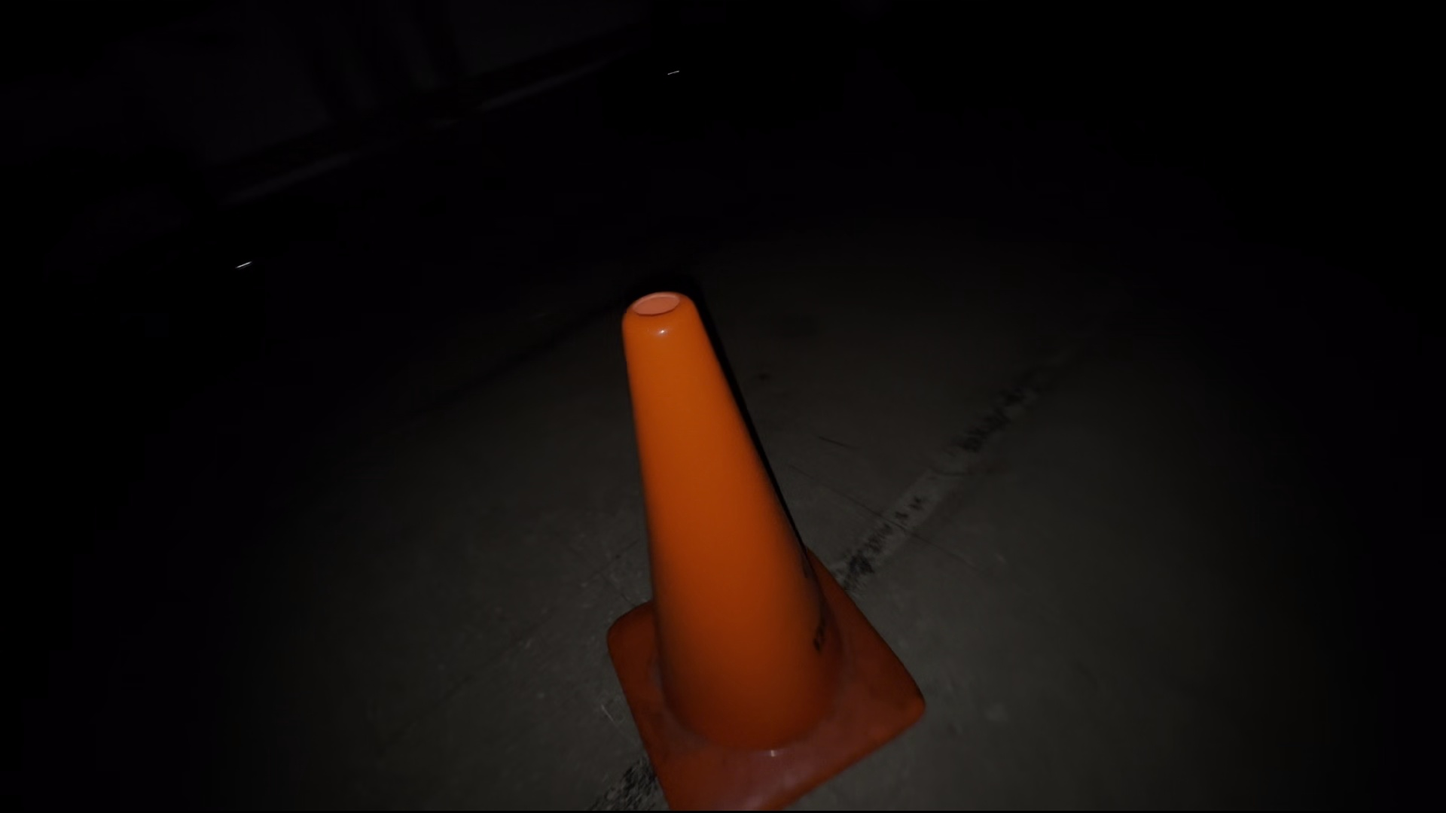traffic_cone: (604, 289, 927, 811)
